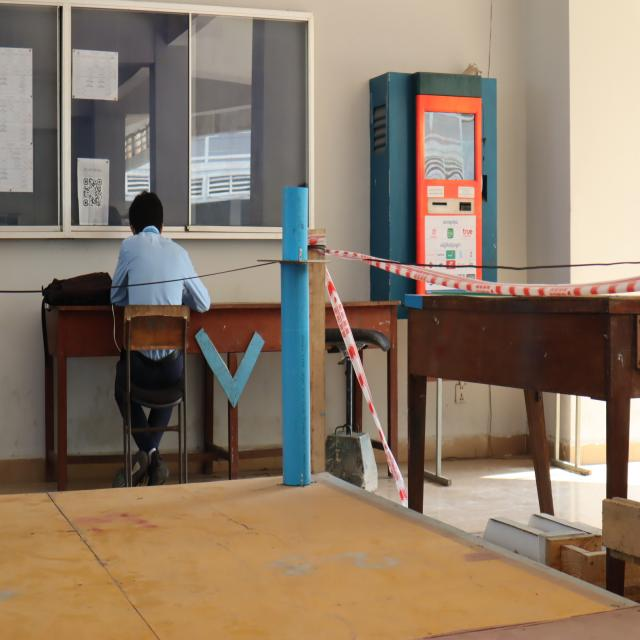pole: (252, 176, 333, 325)
